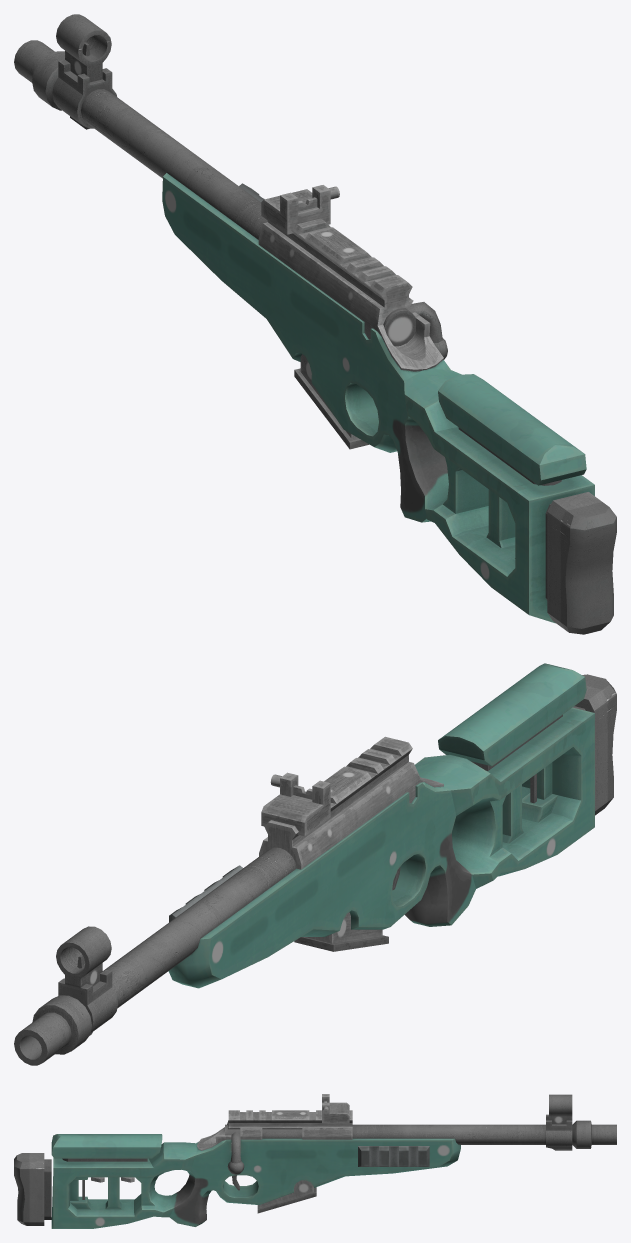
Rendered from IG_Gun_SV98.fbx.
3 renders of one model, top to bottom at view 1: azimuth 30°, elevation 25°; view 2: azimuth 150°, elevation 25°; view 3: azimuth 270°, elevation 25°, orthographic. The views are drawn at different scales.
Visible parts, largest first — view 1: Pfb_WPN_SV98; view 2: Pfb_WPN_SV98; view 3: Pfb_WPN_SV98, WPN_Slideway.
Part boxes in pixels (left/top/right/bottom): Pfb_WPN_SV98: left=14, top=14, right=616, bottom=634; Pfb_WPN_SV98: left=14, top=663, right=616, bottom=1065; Pfb_WPN_SV98: left=14, top=1094, right=616, bottom=1228; WPN_Slideway: left=358, top=1146, right=429, bottom=1166.
Bounding box in the file's own units: 0.1281 × 0.3378 × 1.41.
